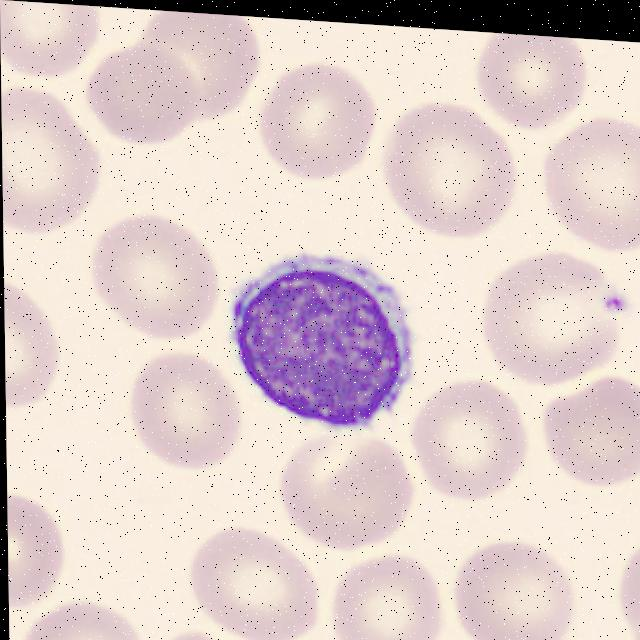lymphocyte: (232, 235, 427, 443)
rbc: (481, 253, 622, 386), (84, 211, 223, 340), (384, 101, 511, 238), (1, 90, 101, 235), (539, 113, 640, 256), (286, 438, 412, 550), (188, 531, 317, 640), (404, 388, 528, 500), (261, 72, 376, 180), (142, 11, 260, 116), (128, 354, 234, 469), (88, 42, 202, 147), (456, 542, 569, 640), (478, 32, 585, 130), (340, 547, 449, 640), (548, 372, 640, 476), (0, 0, 107, 86), (4, 291, 59, 407), (7, 495, 62, 607), (23, 604, 133, 640), (610, 532, 640, 624), (606, 597, 640, 640), (159, 627, 236, 640)
